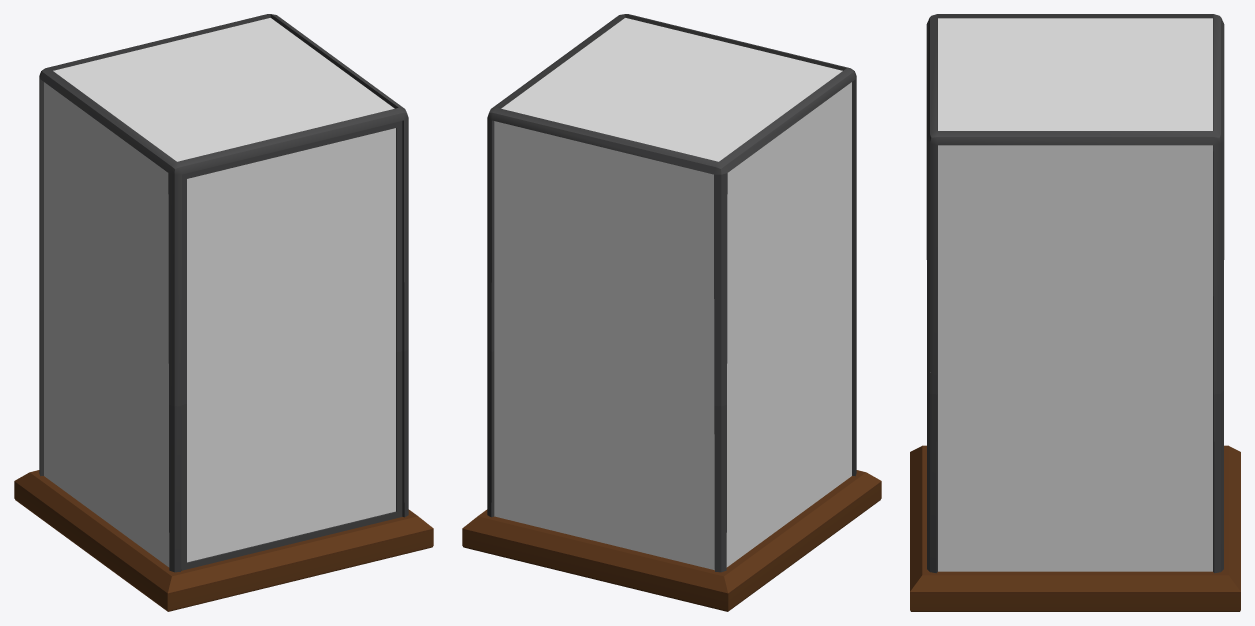
The model's file is SM_DisplayCase.fbx.
3 renders of one model, left to right at view 1: azimuth 30°, elevation 25°; view 2: azimuth 150°, elevation 25°; view 3: azimuth 270°, elevation 25°, orthographic. The views are drawn at different scales.
Visible parts, largest first — view 1: SM_displayCase; view 2: SM_displayCase; view 3: SM_displayCase.
Part boxes in pixels (left/top/right/bottom): SM_displayCase: left=14, top=14, right=433, bottom=611; SM_displayCase: left=462, top=14, right=881, bottom=611; SM_displayCase: left=910, top=14, right=1240, bottom=611.
Bounding box in the file's own units: 34.65 × 54.37 × 34.65.
